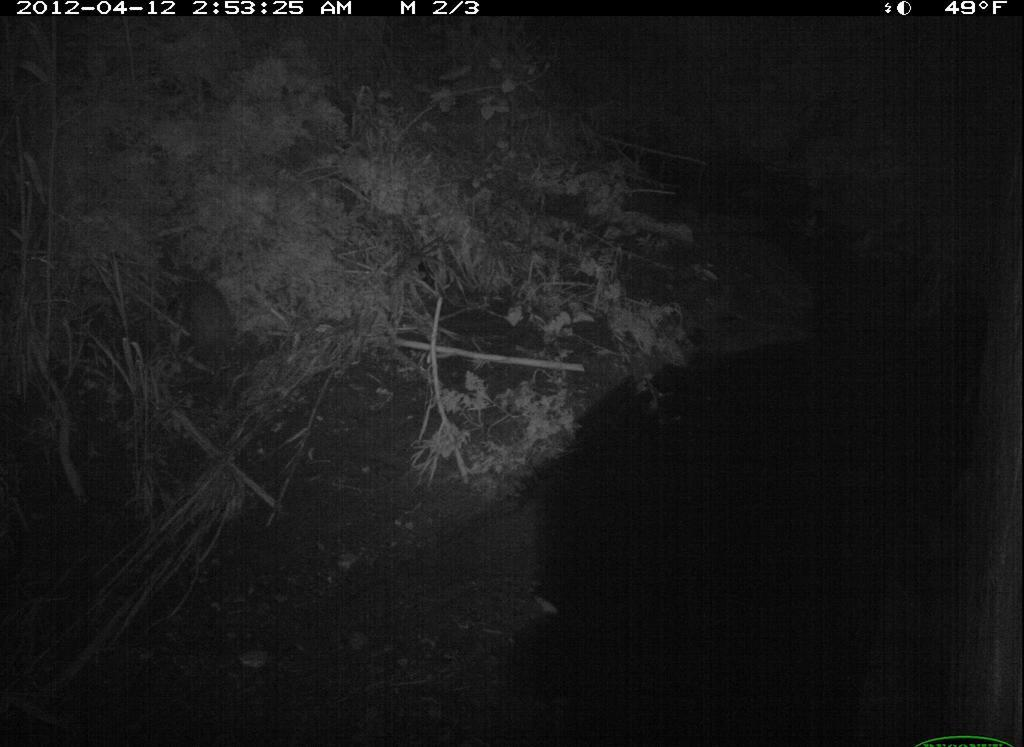opossum: (166, 267, 254, 395)
